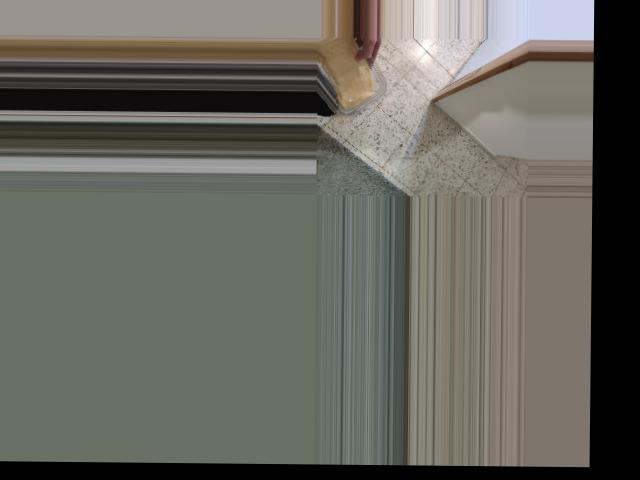cheese: (315, 35, 386, 114)
